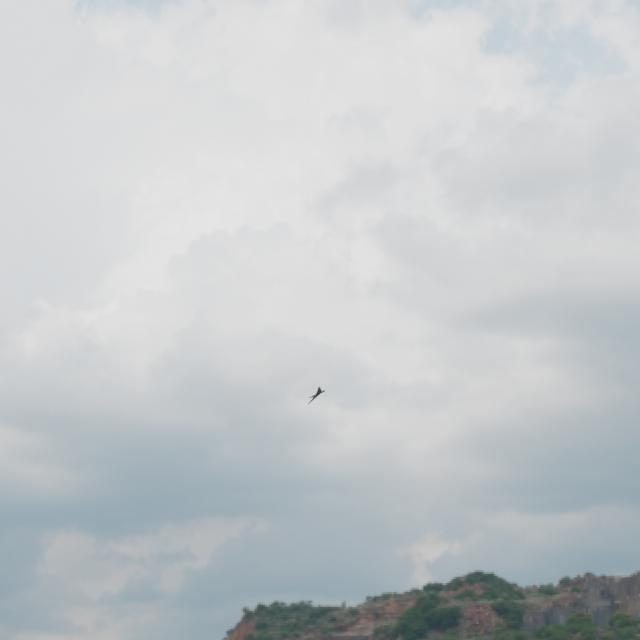Airaplan: (308, 386, 325, 405)
